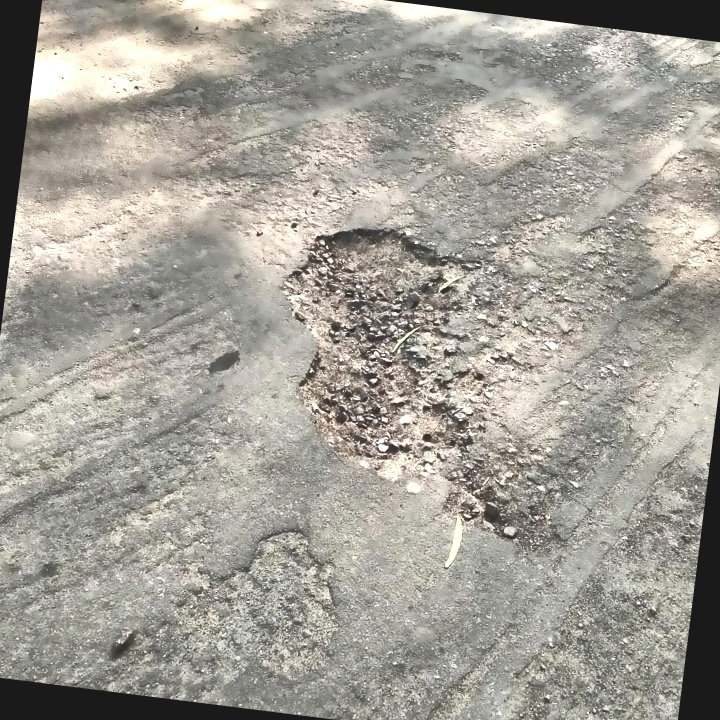pothole: (255, 213, 493, 490)
